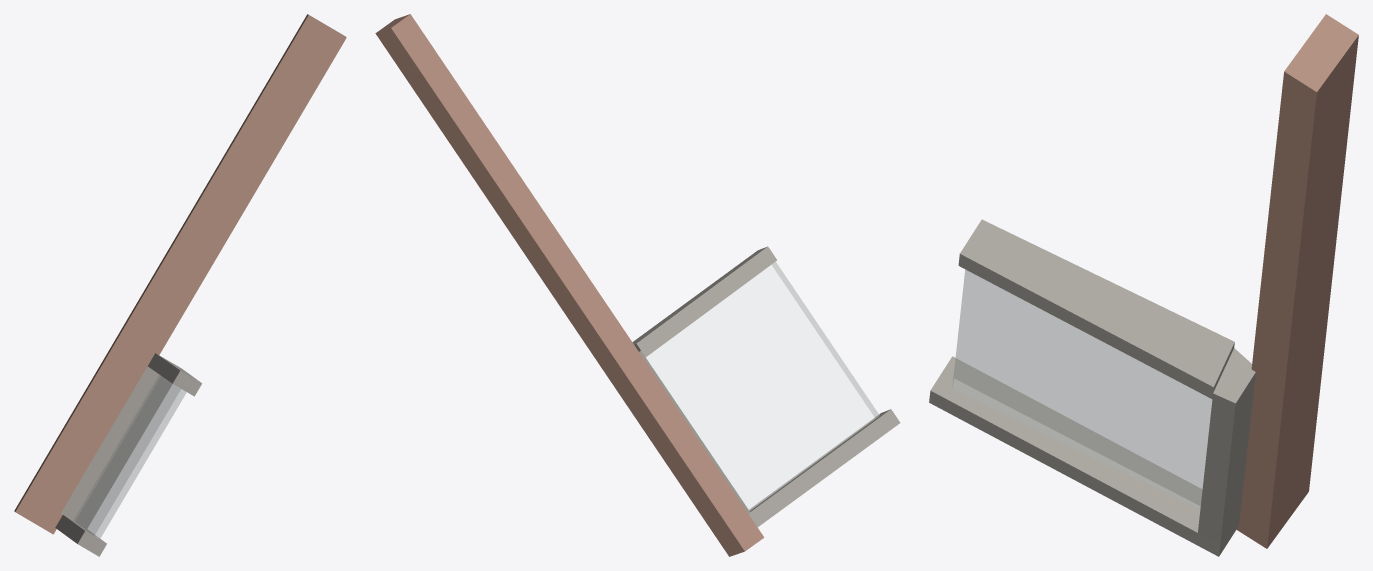
3 renders of one model, left to right at view 1: azimuth 30°, elevation 25°; view 2: azimuth 150°, elevation 25°; view 3: azimuth 270°, elevation 25°, orthographic. The views are drawn at different scales.
Parts seen in each view (by area): view 1: mesh; view 2: mesh; view 3: mesh.
Part boxes in pixels (left/top/right/bottom): mesh: left=14, top=14, right=346, bottom=556; mesh: left=375, top=14, right=900, bottom=556; mesh: left=929, top=14, right=1358, bottom=556.
Size of the model in its own units: 1.89 by 2.13 by 1.08.
